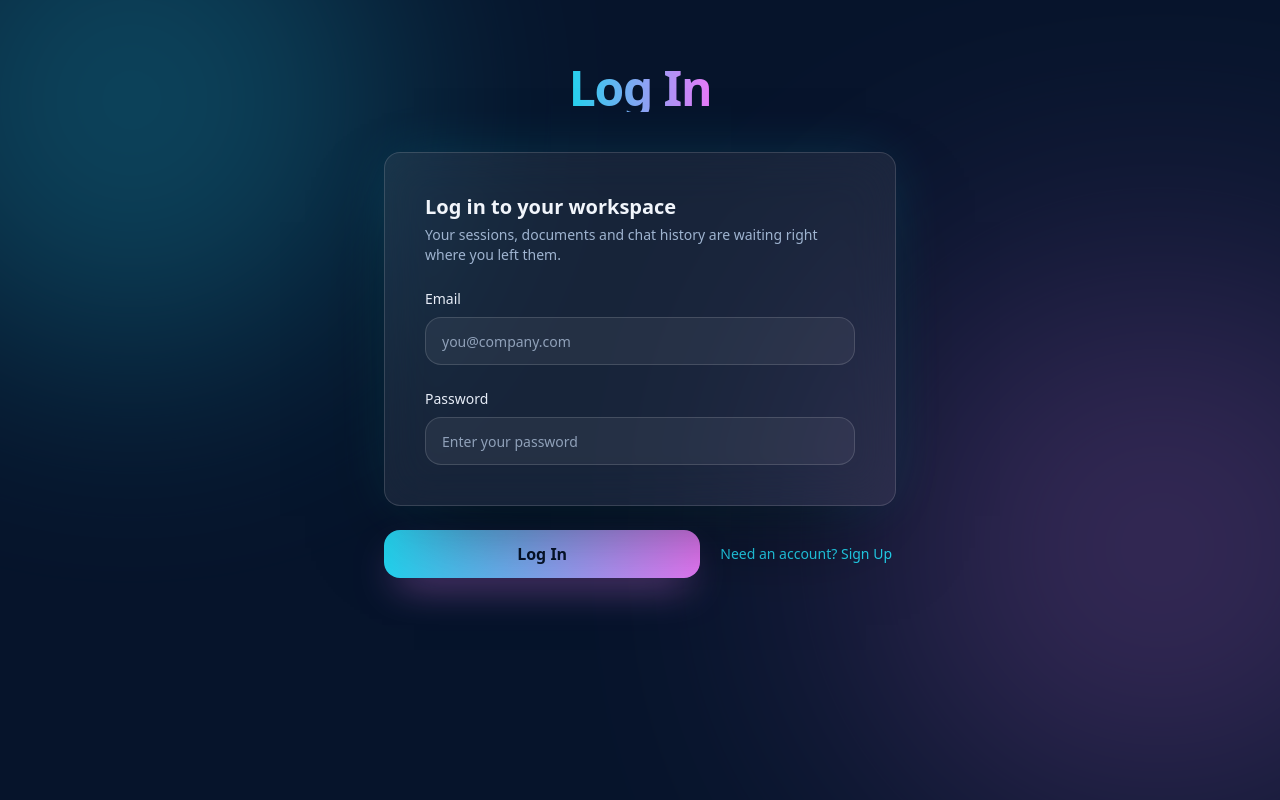
Scenario: Login › [AC-005] submitting wrong credentials shows the server's generic message verbatim with no local existence check
This screenshot has width=1280, height=800.
In the field labelled "Email": point(640, 341) [425,317,855,365], type "nobody@nowhere.com"
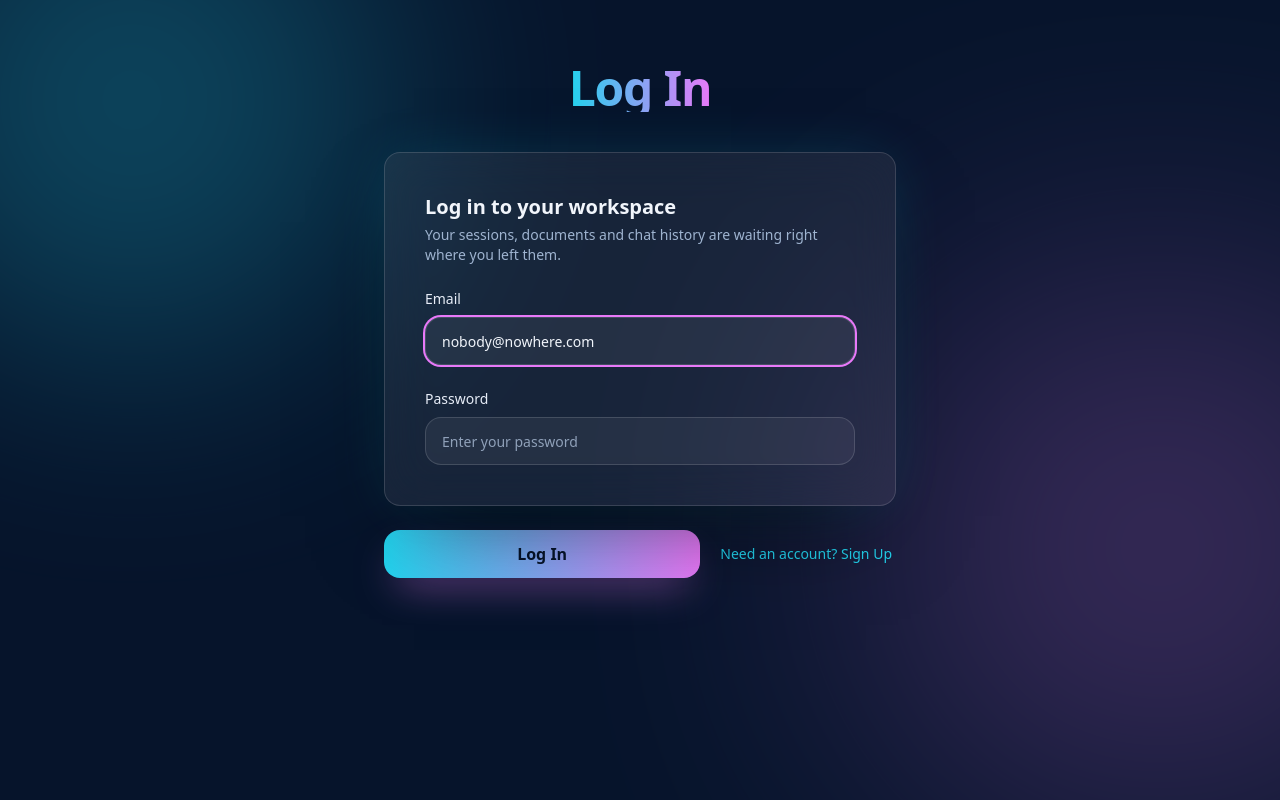
In the password field labelled "Password": point(640, 441) [425,417,855,465], type "wrongpass"
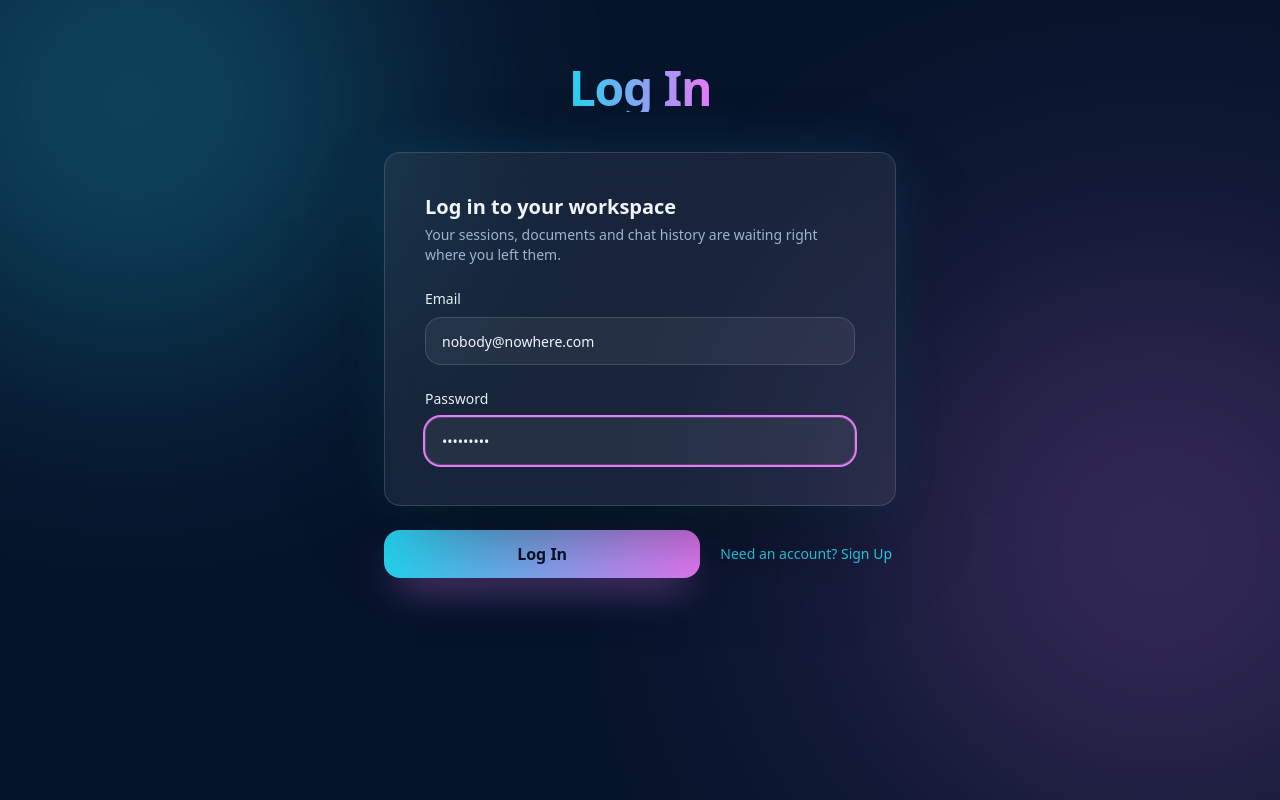
Click the button "Log In": point(542, 554) [384,530,700,578]
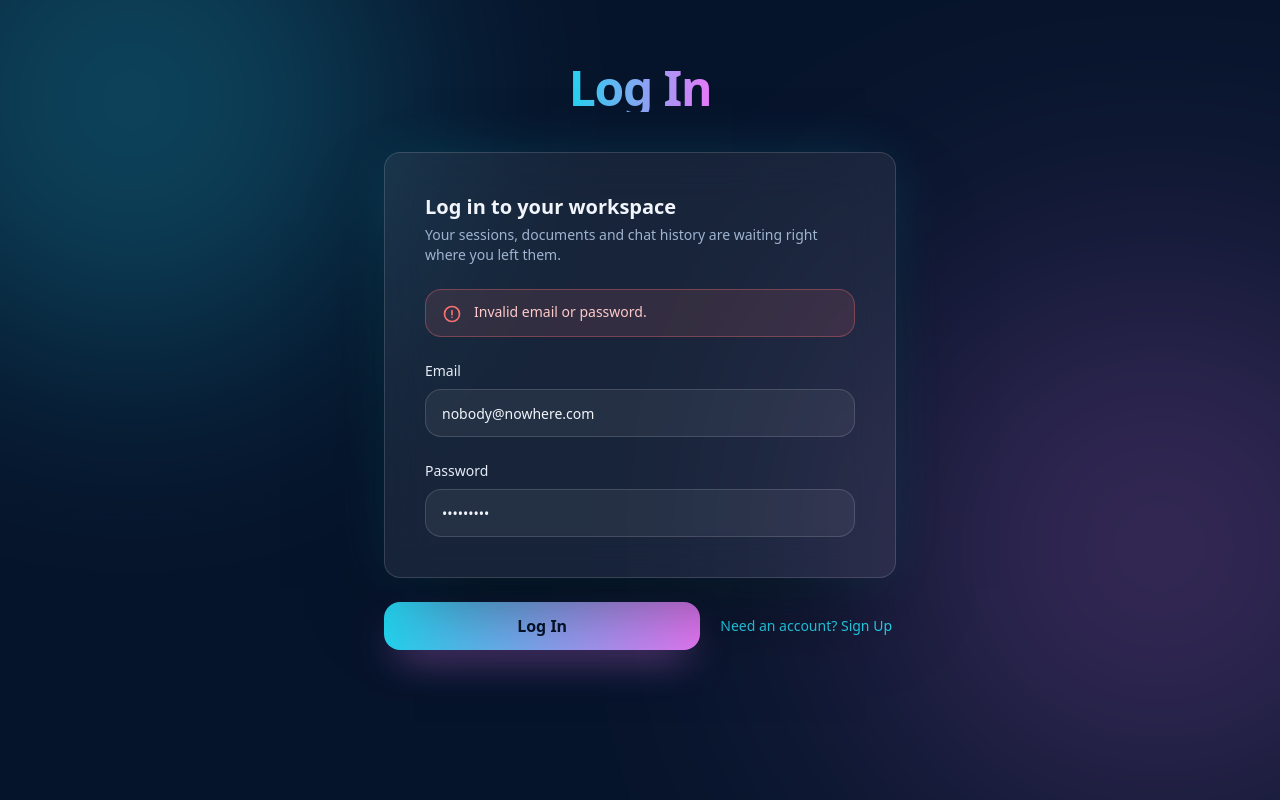
Result: the text "Invalid email or password." is shown at [474,302,647,322]
